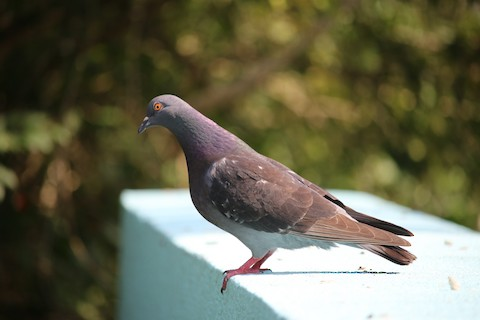pigeon: (135, 89, 421, 296)
